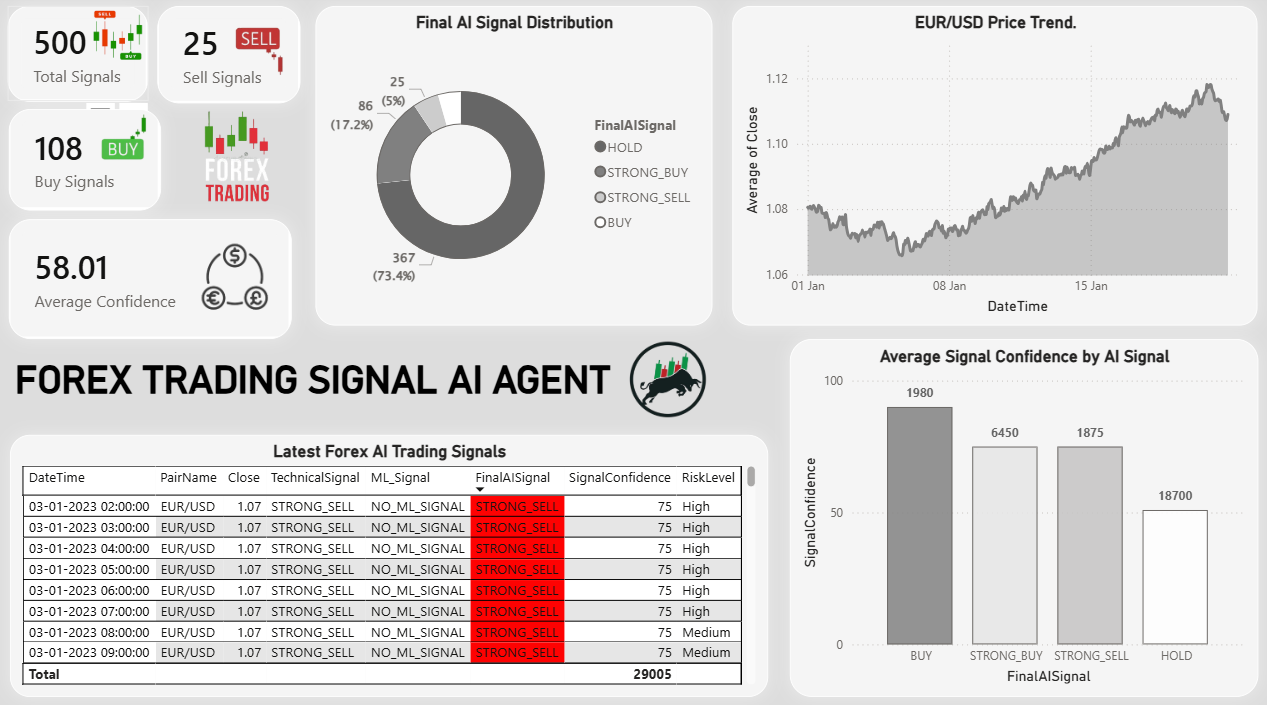

This screenshot's page, from the dashboard's own definition file:
{"tool":"powerbi","page":{"name":"FX Signal Monitoring","canvas":[1280,720],"ordinal":0},"visuals":[{"type":"cardVisual","fields":{"Data":["forex_powerbi_master.Total Signals"]},"box":[9.9,12.1,141.3,96.4],"z":0},{"type":"cardVisual","fields":{"Data":["forex_powerbi_master.Sell Signals"]},"box":[160,12.1,143.5,97.5],"z":1000},{"type":"cardVisual","fields":{"Data":["forex_powerbi_master.Average Confidence"]},"box":[10.4,225.6,283.5,120.3],"z":2000},{"type":"cardVisual","fields":{"Data":["forex_powerbi_master.Buy Signals"]},"box":[10.4,115.7,152.7,101.8],"z":3000},{"type":"lineChart","title":"EUR/USD Price Trend.","fields":{"Y":["Avg(forex_powerbi_master.Close)"],"Category":["forex_powerbi_master.DateTime"]},"box":[737,11.6,526.4,320.5],"z":4000},{"type":"donutChart","title":"Final AI Signal Distribution","fields":{"Category":["forex_powerbi_master.FinalAISignal"],"Y":["CountNonNull(forex_powerbi_master.FinalAISignal)"]},"box":[318.2,11.6,398,320.5],"z":5000},{"type":"tableEx","title":"Latest Forex AI Trading Signals","fields":{"Values":["forex_powerbi_master.DateTime","forex_powerbi_master.PairName","forex_powerbi_master.Close","forex_powerbi_master.TechnicalSignal","forex_powerbi_master.ML_Signal","forex_powerbi_master.FinalAISignal","Sum(forex_powerbi_master.SignalConfidence)","forex_powerbi_master.RiskLevel"]},"box":[11.6,442,760.2,262.6],"z":6000},{"type":"clusteredColumnChart","title":"Average Signal Confidence by AI Signal","fields":{"Category":["forex_powerbi_master.FinalAISignal"],"Y":["Avg(forex_powerbi_master.SignalConfidence)"]},"box":[793.7,346,469.8,358.7],"z":7000},{"type":"image","box":[627.4,343.2,90.8,86.1],"z":8000},{"type":"image","box":[81,115.7,93.7,62.5],"z":9000},{"type":"image","box":[190.9,22,144.6,67.1],"z":10000},{"type":"image","box":[196.7,247.6,81,76.4],"z":11000},{"type":"image","box":[71.7,11.6,94.9,60.2],"z":12000},{"type":"image","box":[166.6,111.1,141.2,106.4],"z":13000},{"type":"textbox","box":[11.8,359.7,759.5,62.5],"z":14000}]}

Visuals, with their boxes in screenshot pixels (x1, y1, x2, y2), scaled from the page's 1280x720 canvas onto the 1267x705 screenshot:
cardVisual - forex_powerbi_master.Total Signals: [left=10, top=12, right=150, bottom=106]
cardVisual - forex_powerbi_master.Sell Signals: [left=158, top=12, right=300, bottom=107]
cardVisual - forex_powerbi_master.Average Confidence: [left=10, top=221, right=291, bottom=339]
cardVisual - forex_powerbi_master.Buy Signals: [left=10, top=113, right=161, bottom=213]
"EUR/USD Price Trend." lineChart: [left=730, top=11, right=1251, bottom=325]
"Final AI Signal Distribution" donutChart: [left=315, top=11, right=709, bottom=325]
"Latest Forex AI Trading Signals" tableEx: [left=11, top=433, right=764, bottom=690]
"Average Signal Confidence by AI Signal" clusteredColumnChart: [left=786, top=339, right=1251, bottom=690]
image: [left=621, top=336, right=711, bottom=420]
image: [left=80, top=113, right=173, bottom=174]
image: [left=189, top=22, right=332, bottom=87]
image: [left=195, top=242, right=275, bottom=317]
image: [left=71, top=11, right=165, bottom=70]
image: [left=165, top=109, right=305, bottom=213]
textbox: [left=12, top=352, right=763, bottom=413]
